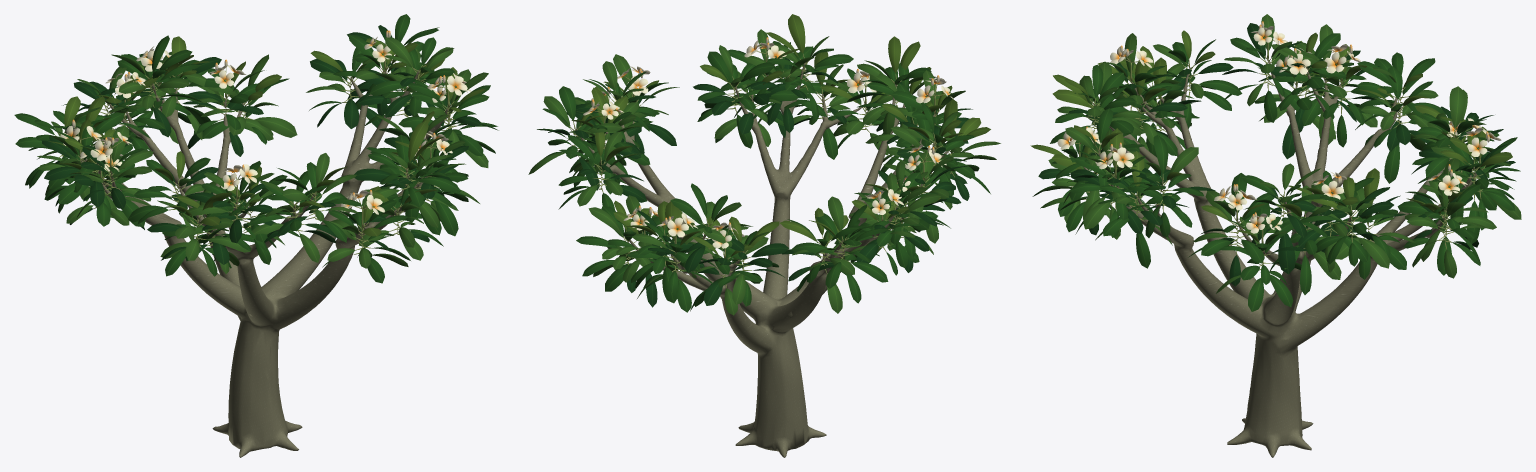
Rendered from Frangipani.glb.
3 renders of one model, left to right at view 1: azimuth 30°, elevation 25°; view 2: azimuth 150°, elevation 25°; view 3: azimuth 270°, elevation 25°, orthographic. The views are drawn at different scales.
Visible parts, largest first — view 1: Frangipani_Obovate_Leaves.005, Frangipani_Sculptural_Branches.006, Frangipani_FivePetal_Flowers.005, Frangipani_Petioles_Inflorescences.005; view 2: Frangipani_Obovate_Leaves.005, Frangipani_Sculptural_Branches.006, Frangipani_FivePetal_Flowers.005, Frangipani_Petioles_Inflorescences.005; view 3: Frangipani_Obovate_Leaves.005, Frangipani_Sculptural_Branches.006, Frangipani_FivePetal_Flowers.005, Frangipani_Petioles_Inflorescences.005.
Part boxes in pixels (bbox=[...]): Frangipani_Obovate_Leaves.005: bbox=[14, 14, 498, 283]; Frangipani_Sculptural_Branches.006: bbox=[81, 60, 447, 457]; Frangipani_FivePetal_Flowers.005: bbox=[60, 30, 471, 214]; Frangipani_Petioles_Inflorescences.005: bbox=[55, 36, 459, 255]; Frangipani_Obovate_Leaves.005: bbox=[528, 14, 1000, 315]; Frangipani_Sculptural_Branches.006: bbox=[575, 62, 949, 457]; Frangipani_FivePetal_Flowers.005: bbox=[583, 37, 953, 248]; Frangipani_Petioles_Inflorescences.005: bbox=[567, 48, 958, 288]; Frangipani_Obovate_Leaves.005: bbox=[1030, 14, 1521, 311]; Frangipani_Sculptural_Branches.006: bbox=[1083, 60, 1476, 457]; Frangipani_FivePetal_Flowers.005: bbox=[1057, 21, 1501, 233]; Frangipani_Petioles_Inflorescences.005: bbox=[1069, 29, 1486, 270].
Size of the model in its own units: 6.23 by 5.06 by 6.4.
4 materials, 3 textured.
